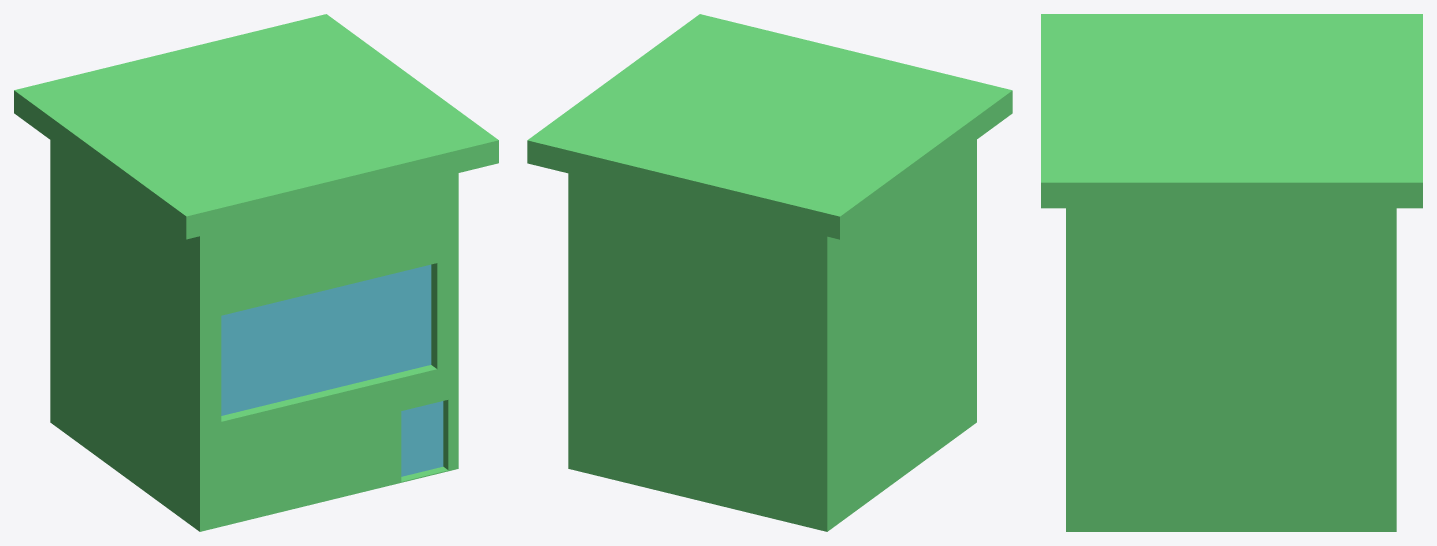
File: wafla8.fbx
The picture shows the model from 3 angles, left to right: view 1: azimuth 30°, elevation 25°; view 2: azimuth 150°, elevation 25°; view 3: azimuth 270°, elevation 25°; orthographic projection. The views are drawn at different scales.
Parts seen in each view (by area): view 1: Cube, Cube.001, Cube.002; view 2: Cube; view 3: Cube.
Part boxes in pixels (<box>): Cube: <box>14,14,498,531</box>; Cube.001: <box>221,264,431,415</box>; Cube.002: <box>401,401,443,476</box>; Cube: <box>527,14,1012,531</box>; Cube: <box>1041,14,1422,531</box>.
Bounding box in the file's own units: 242 × 243 × 231.
